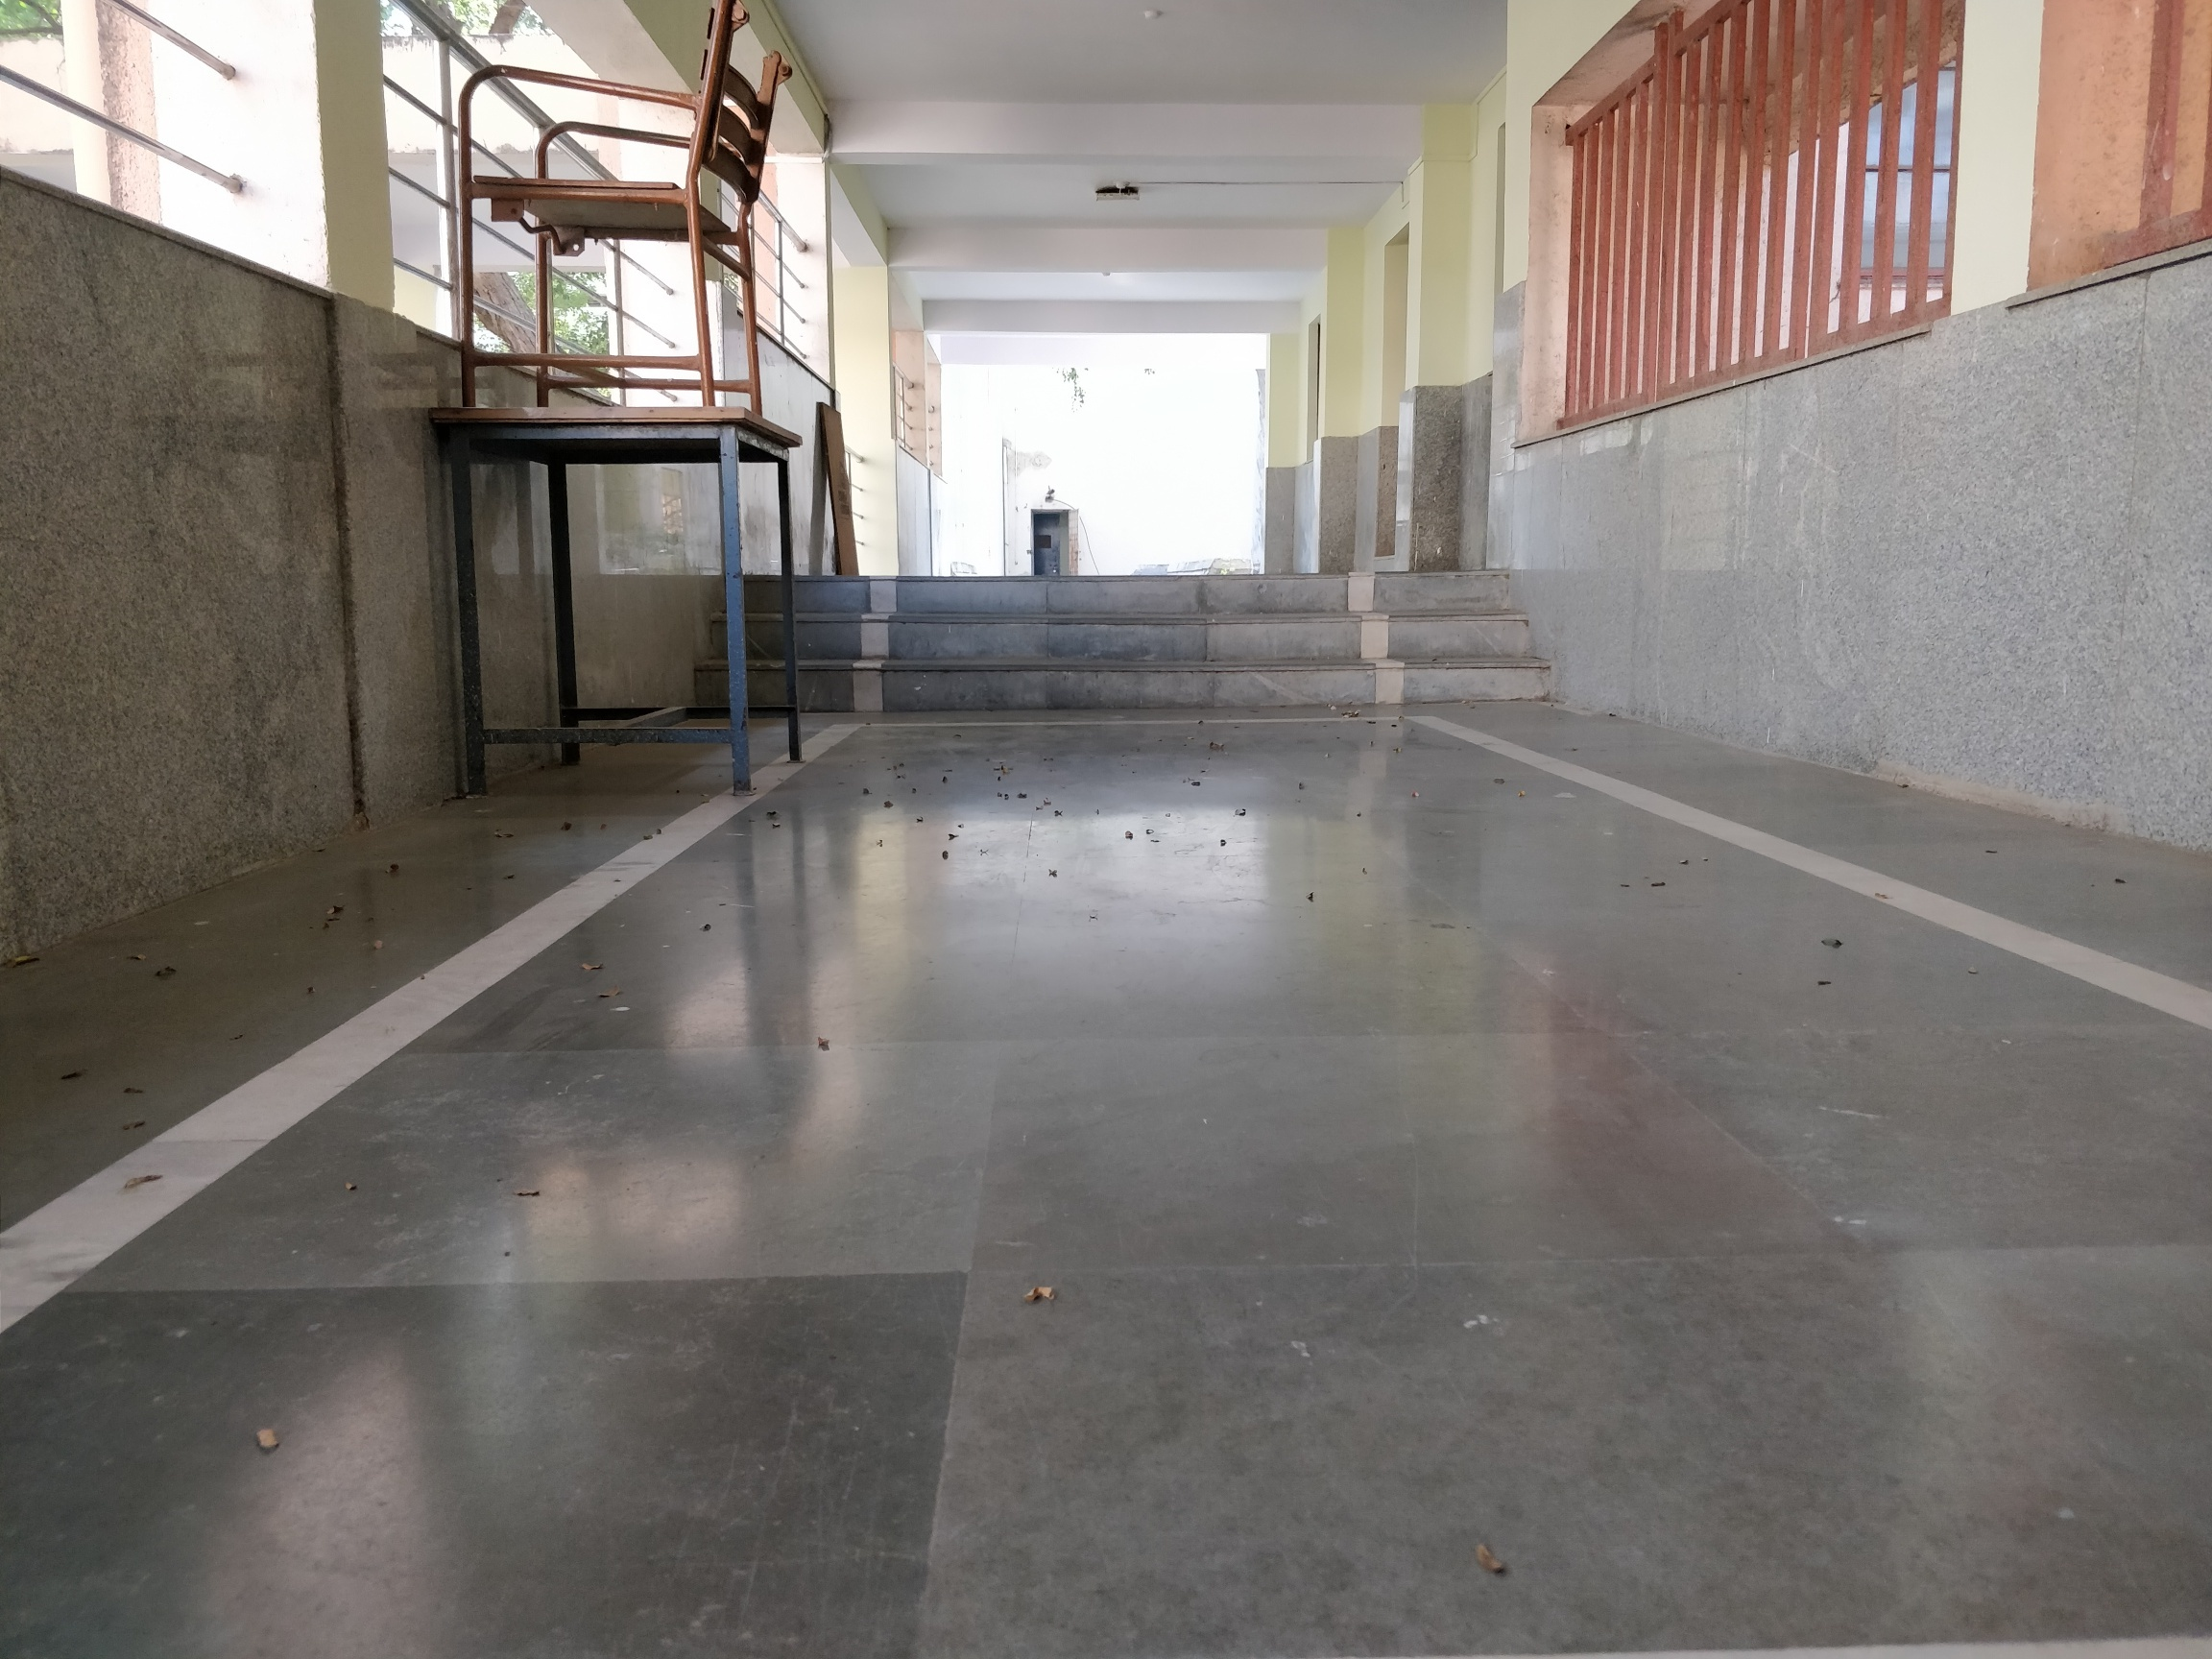stairs_up: (676, 559, 1562, 720)
